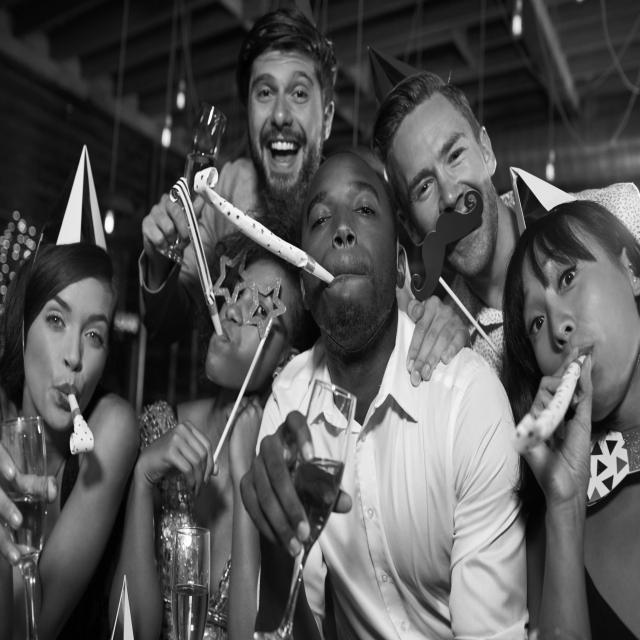person: (223, 111, 575, 640), (120, 230, 299, 633), (502, 202, 638, 640), (2, 237, 144, 640), (364, 73, 540, 306), (206, 10, 333, 205)
